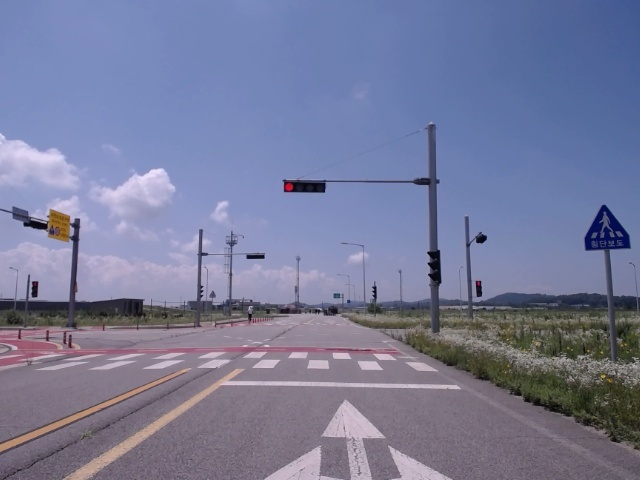red_4: (283, 182, 326, 193)
